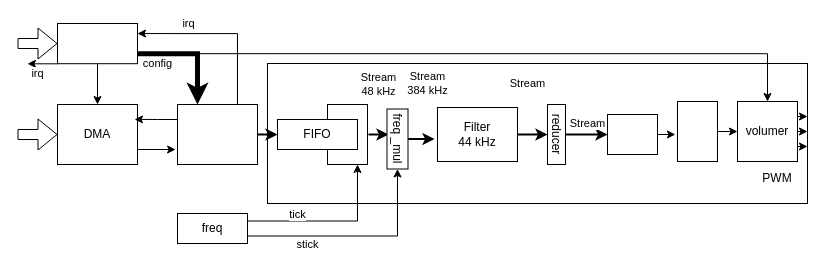
This 833x268 diagram has some shape labels left out. Here are the shapes that lost their labels. From the top down, the centre of each, then its label:
pixel 97 43: regs
pixel 217 134: Loader
pixel 632 134: serializer
pixel 697 131: gen (sigma delta)
